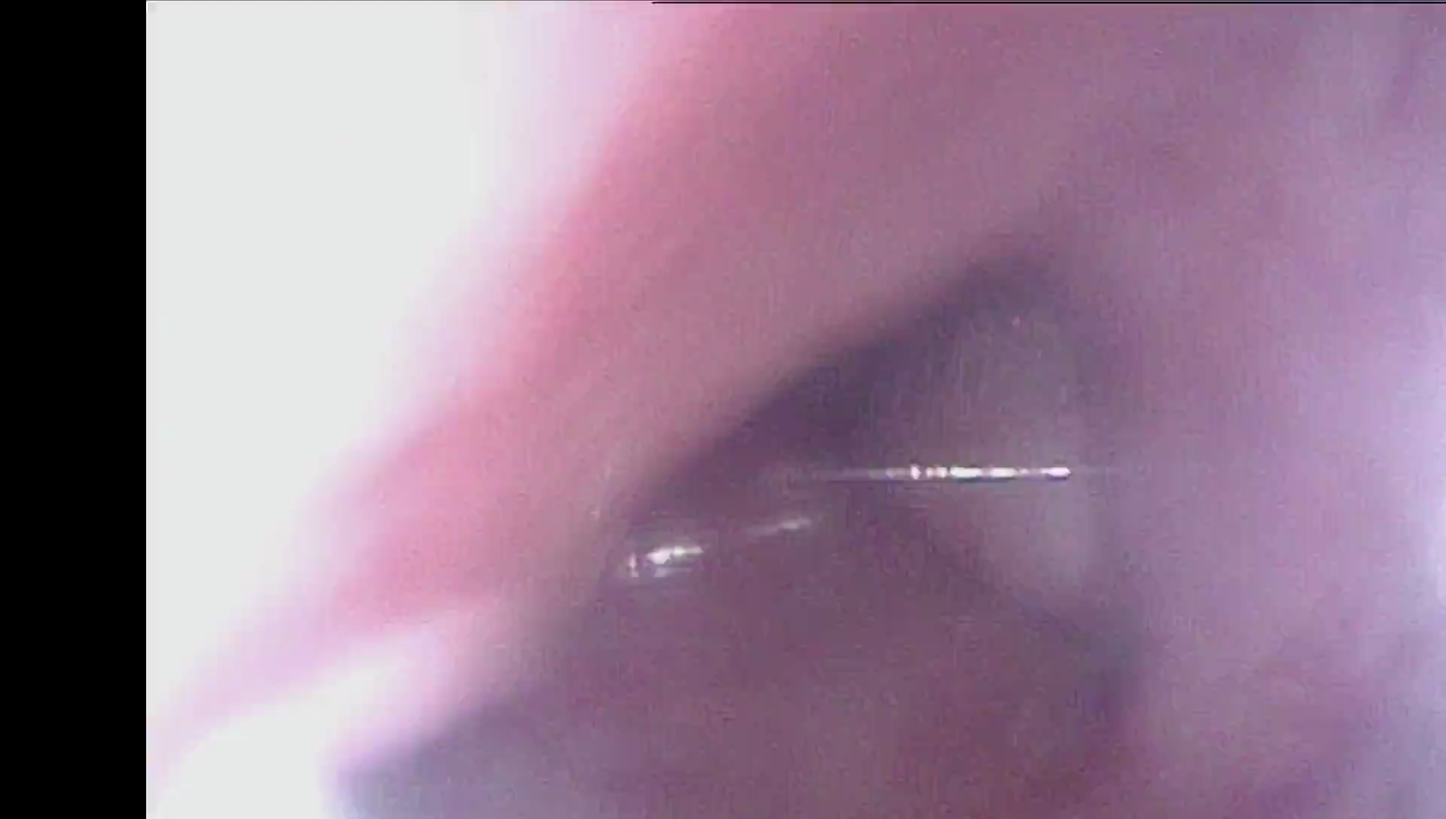close_wall: (167, 0, 697, 589)
next: (767, 312, 925, 510)
